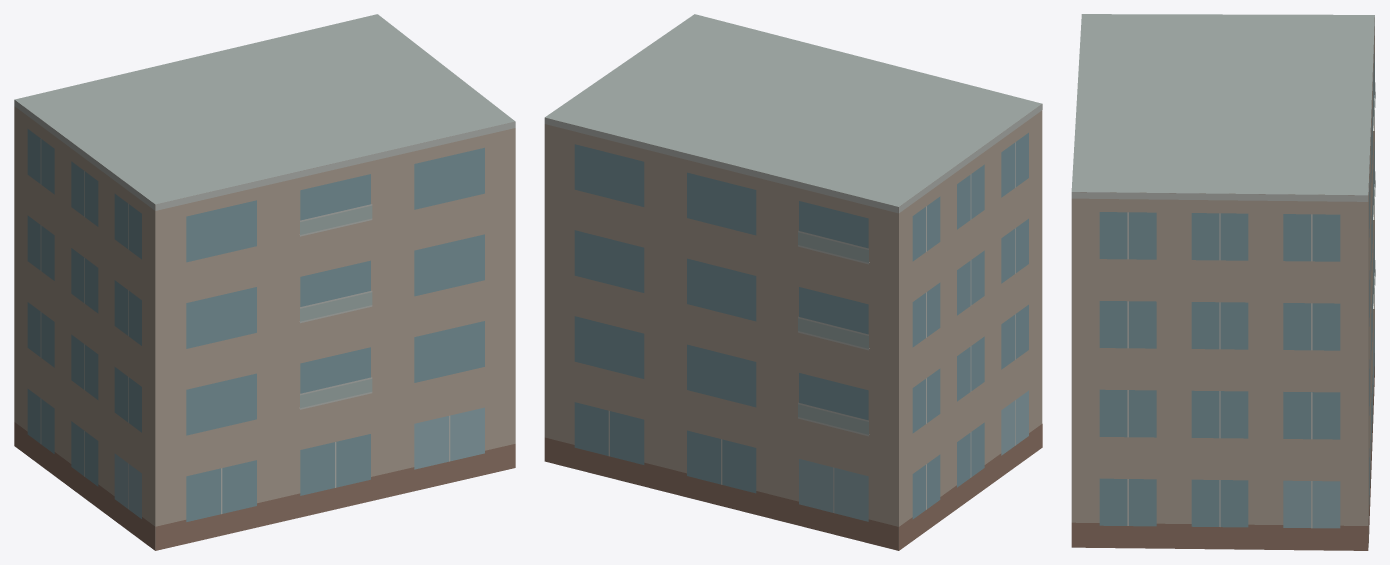
The model's file is survey-upis-32769335.glb.
3 views of the same model, side by side, from view 1: azimuth 30°, elevation 25°; view 2: azimuth 150°, elevation 25°; view 3: azimuth 270°, elevation 25° (orthographic). The views are drawn at different scales.
Visible parts, largest first — view 1: survey-upis-32769335.tmp; view 2: survey-upis-32769335.tmp; view 3: survey-upis-32769335.tmp.
Part boxes in pixels (x1,y1,x2,y2): survey-upis-32769335.tmp: [14, 14, 515, 550]; survey-upis-32769335.tmp: [544, 14, 1042, 550]; survey-upis-32769335.tmp: [1071, 14, 1375, 550].
Bounding box in the file's own units: 14.22 × 13 × 10.08.
